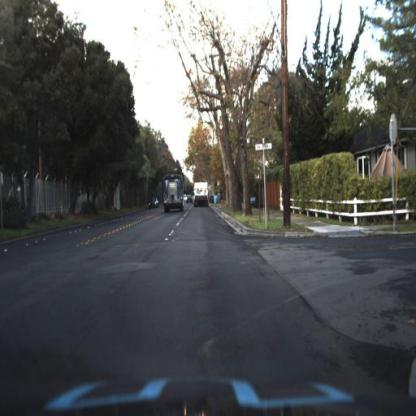car: (147, 195, 161, 214), (147, 197, 162, 213)
truck: (161, 171, 186, 216), (191, 180, 211, 211)
